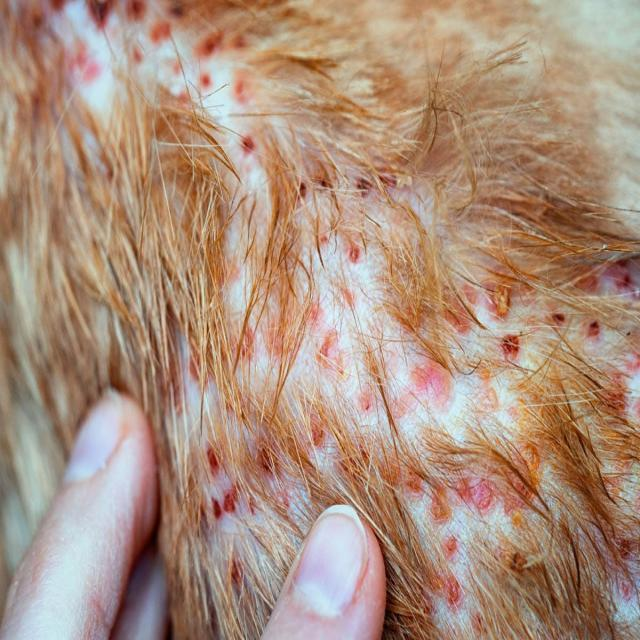di ung bo chet: (4, 0, 640, 511)
